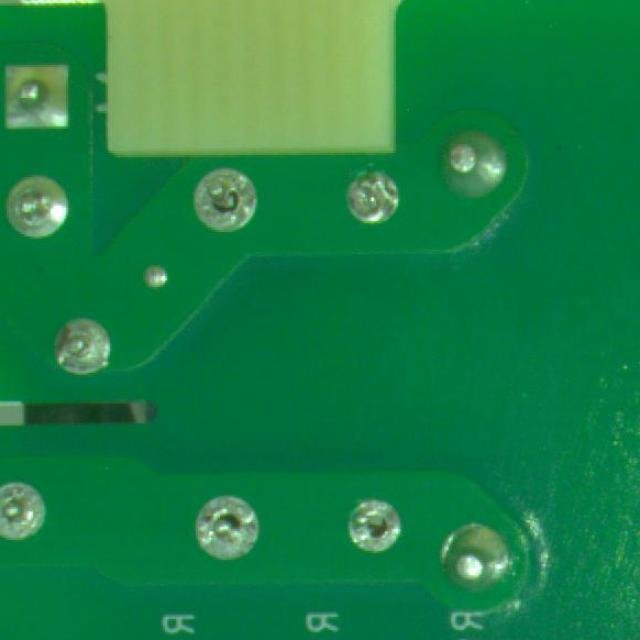Insufficient solder: (188, 486, 265, 569), (186, 162, 256, 244), (338, 489, 402, 568), (54, 314, 114, 381), (336, 166, 402, 226), (0, 482, 53, 544)
